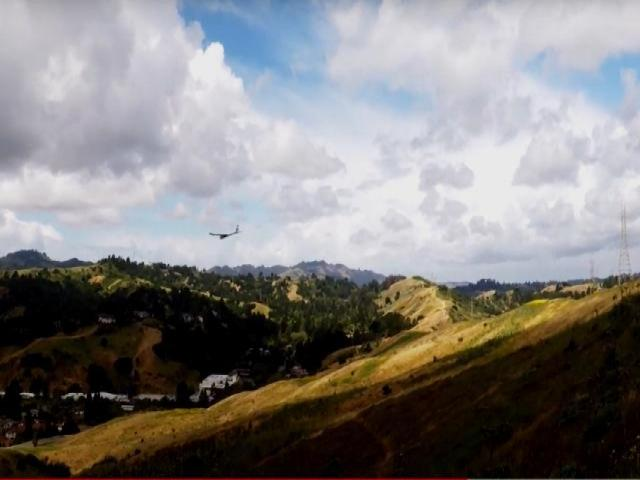iha: (206, 224, 247, 242)
